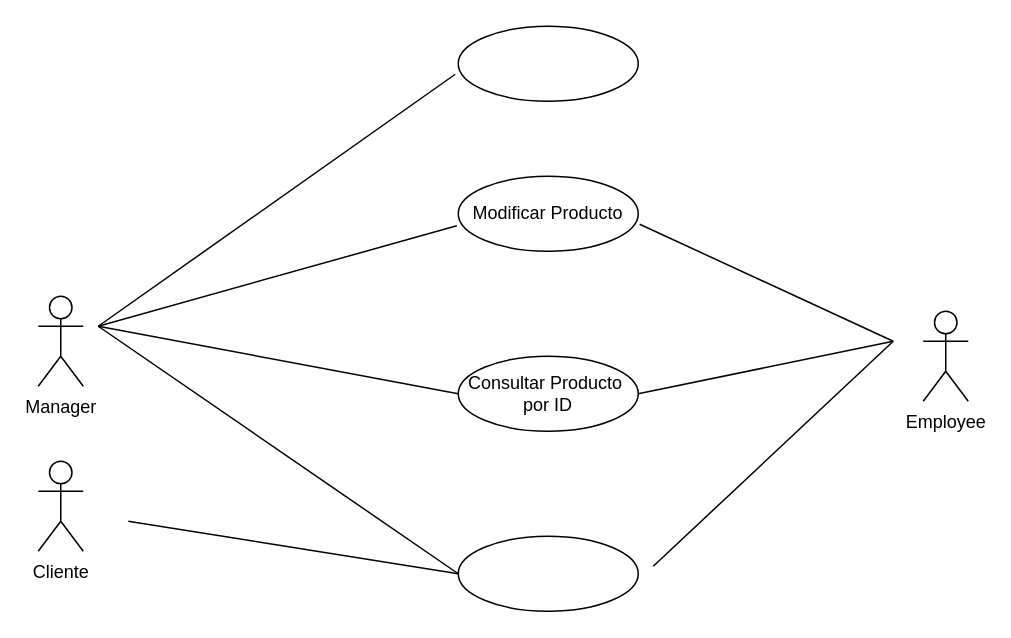
Some shapes in this 1011 by 638 pixel diagram are drawn without their labels. Each missing label, with the centre of its shape:
"Añadir Producto" goes at point 547,63.
"Consultar todos los Productos" goes at point 547,573.
